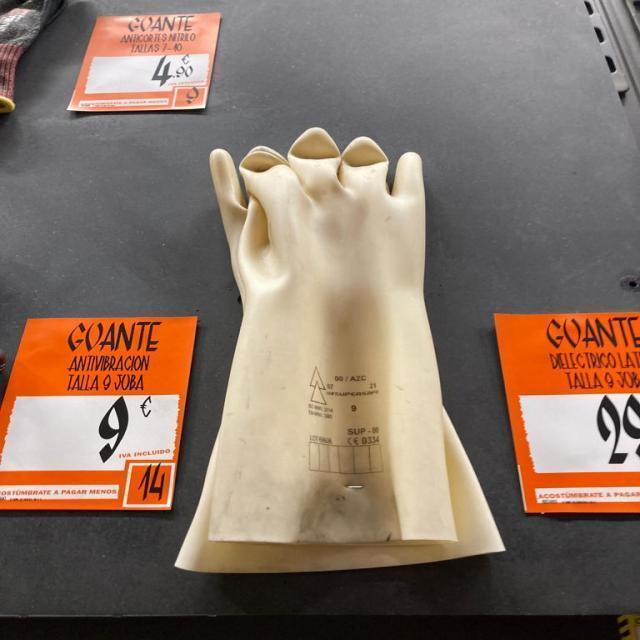Gloves: (231, 156, 459, 582)
